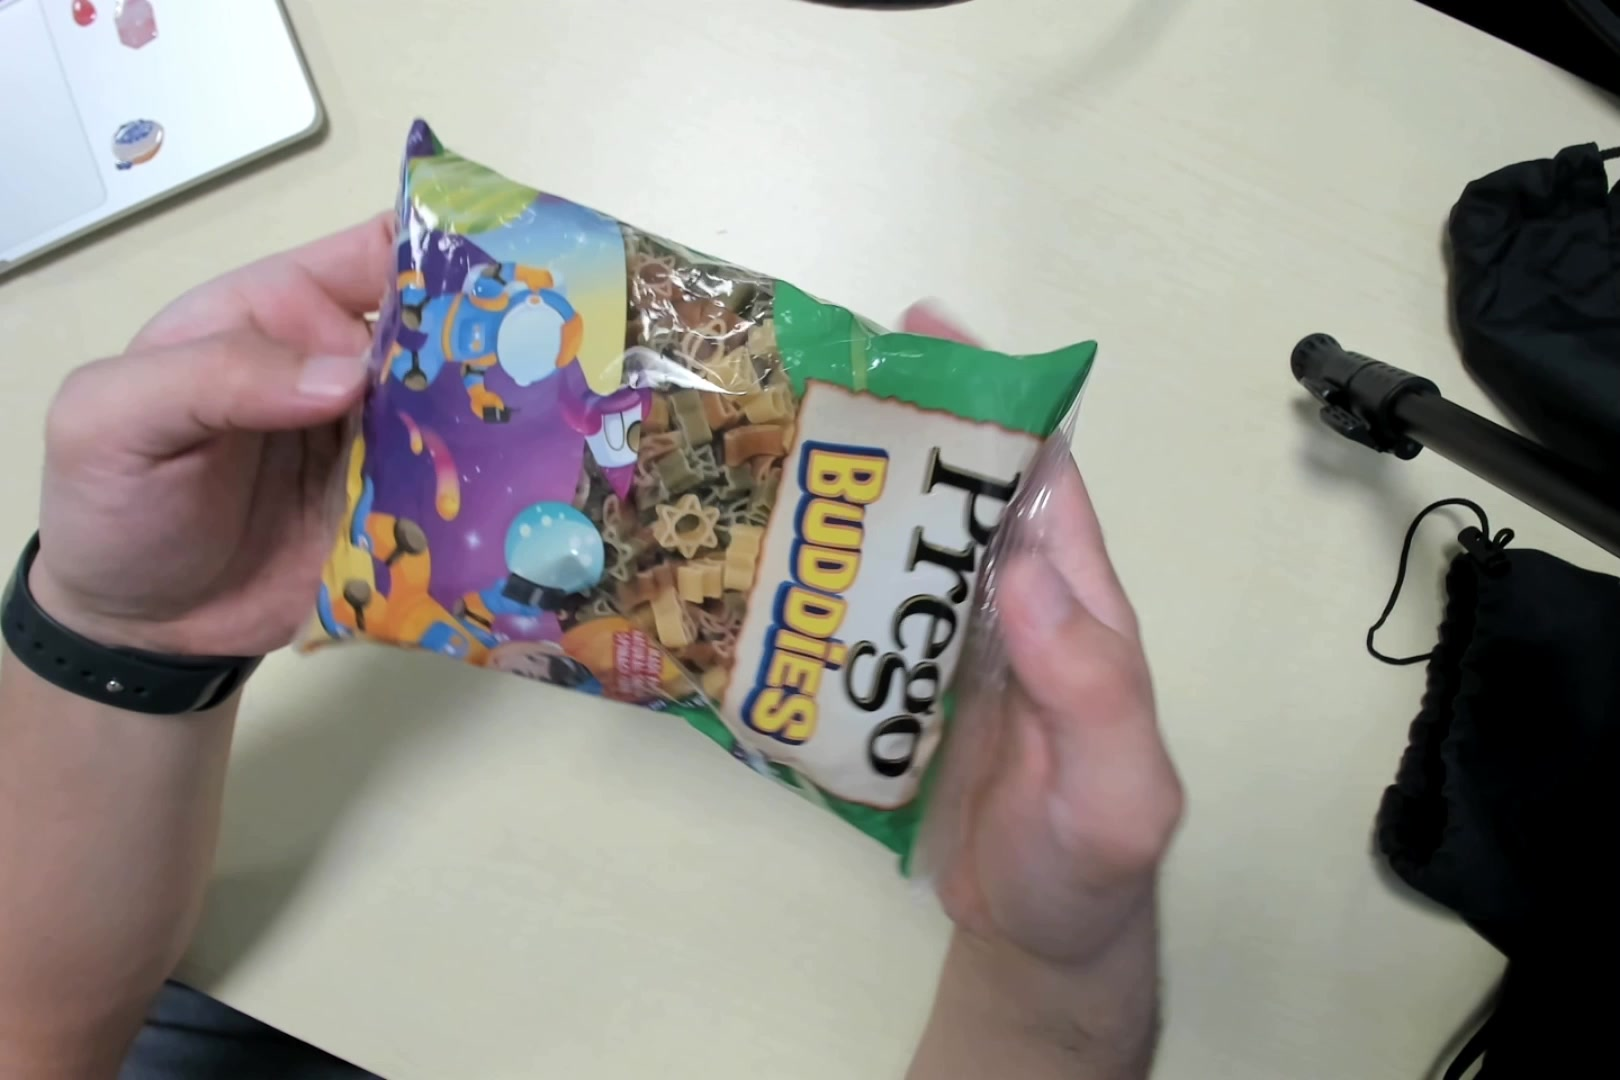Pasta_200-299g_Halal_NonHealthy: (331, 168, 1086, 853)
